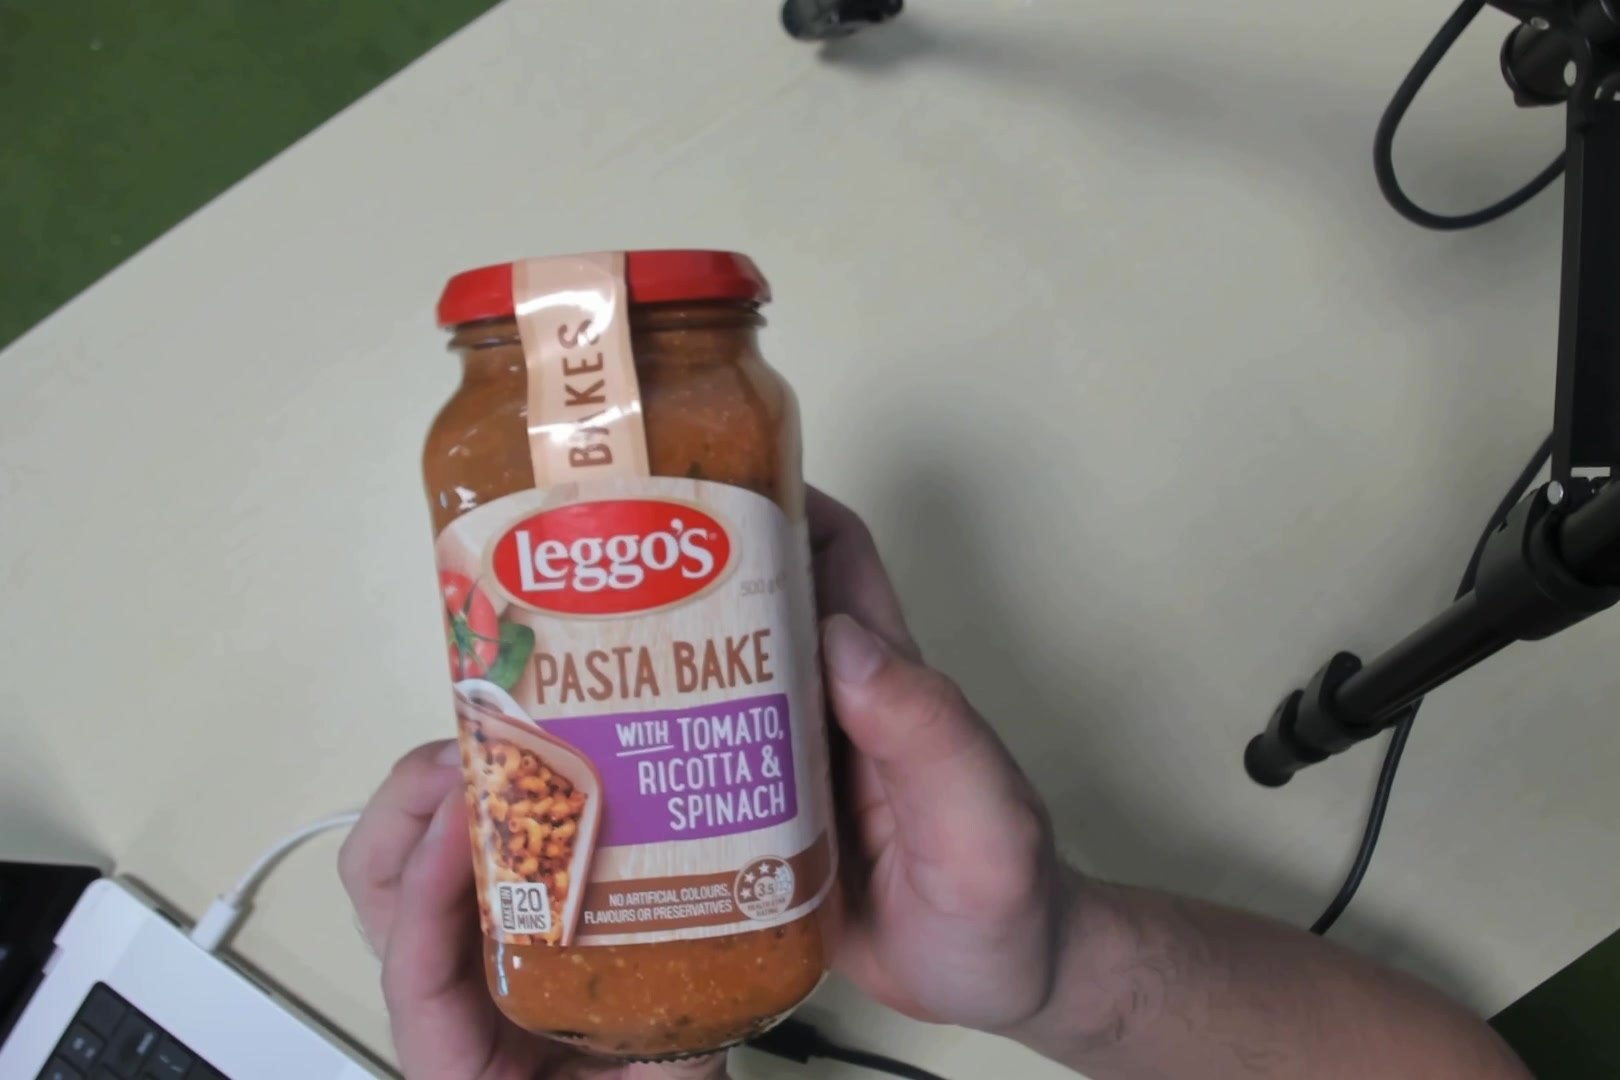Pasta_500-599g_Halal_NonHealthy: (433, 269, 837, 1012)
